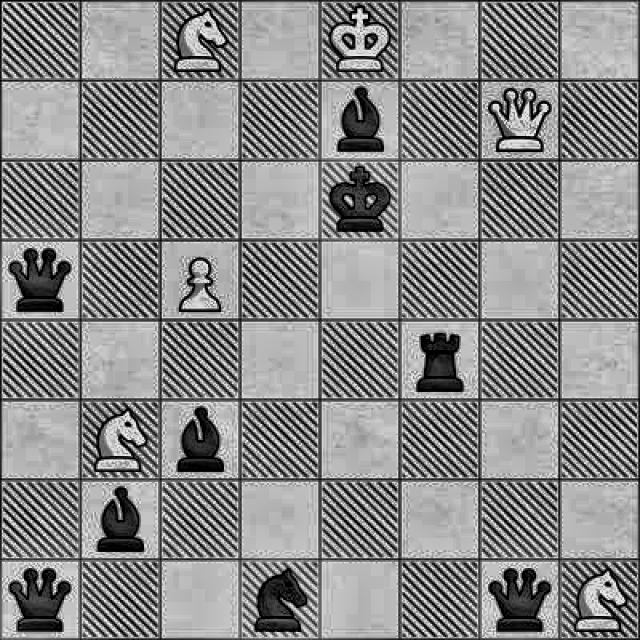Black Knight: (250, 566, 316, 638)
black bishop: (88, 486, 162, 556), (332, 85, 396, 154), (168, 405, 234, 471)
black king: (328, 167, 396, 236)
black queen: (4, 242, 80, 318), (481, 564, 554, 634), (8, 564, 72, 634)
black rook: (409, 325, 468, 397)
white king: (327, 3, 392, 74)
white pawn: (174, 248, 232, 316)
white queen: (479, 78, 564, 160)
whiteknight: (166, 4, 236, 78), (572, 564, 634, 635), (92, 404, 148, 474)
